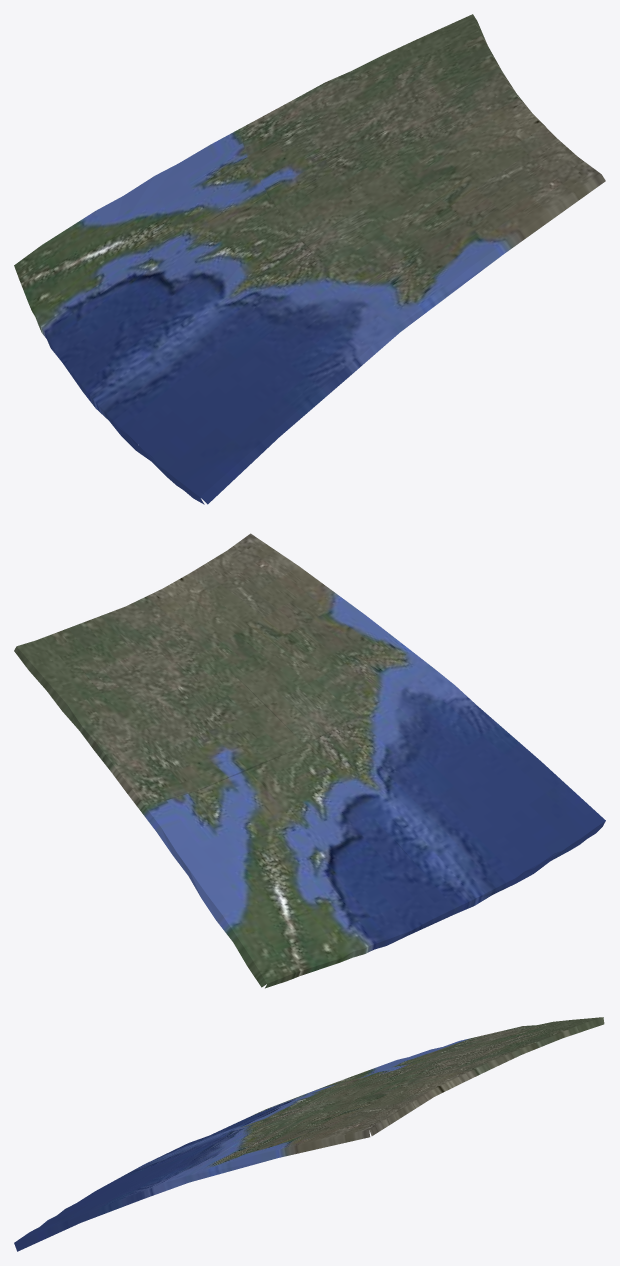
The picture shows the model from 3 angles, top to bottom: view 1: azimuth 30°, elevation 25°; view 2: azimuth 150°, elevation 25°; view 3: azimuth 330°, elevation 25°; orthographic projection. The views are drawn at different scales.
Size of the model in its own units: 1306226 by 620624 by 1376407.
1 material, 1 textured.
